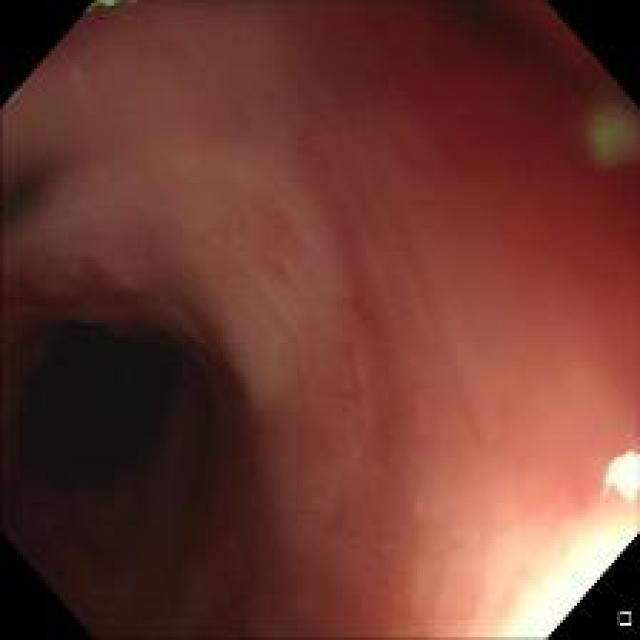color misalignment: (576, 98, 631, 166), (85, 0, 120, 11)
contrast: (16, 315, 224, 595)
saturation: (489, 544, 614, 634)
specularity: (602, 441, 638, 505)
